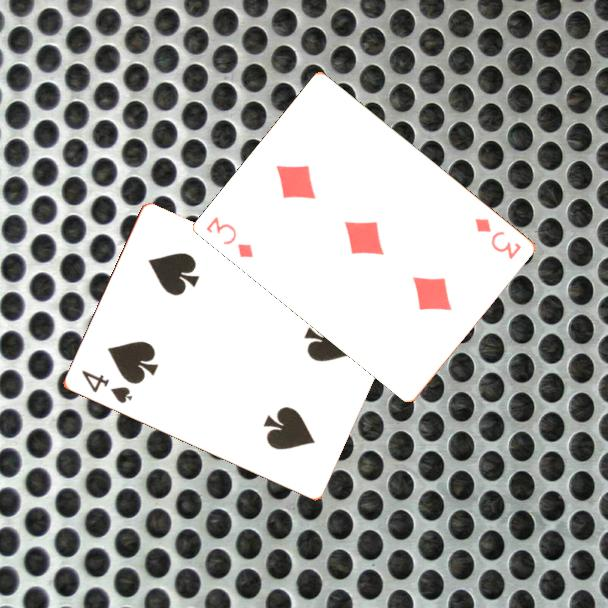d03: (203, 213, 257, 261), (471, 215, 525, 262)
s04: (78, 367, 135, 407)
